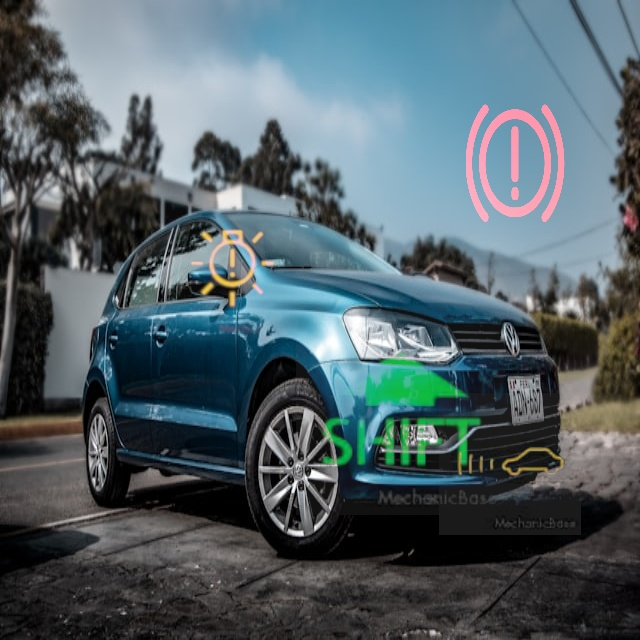symbol: (296, 306, 505, 515), (416, 60, 613, 257), (163, 198, 305, 340), (439, 393, 581, 535)
